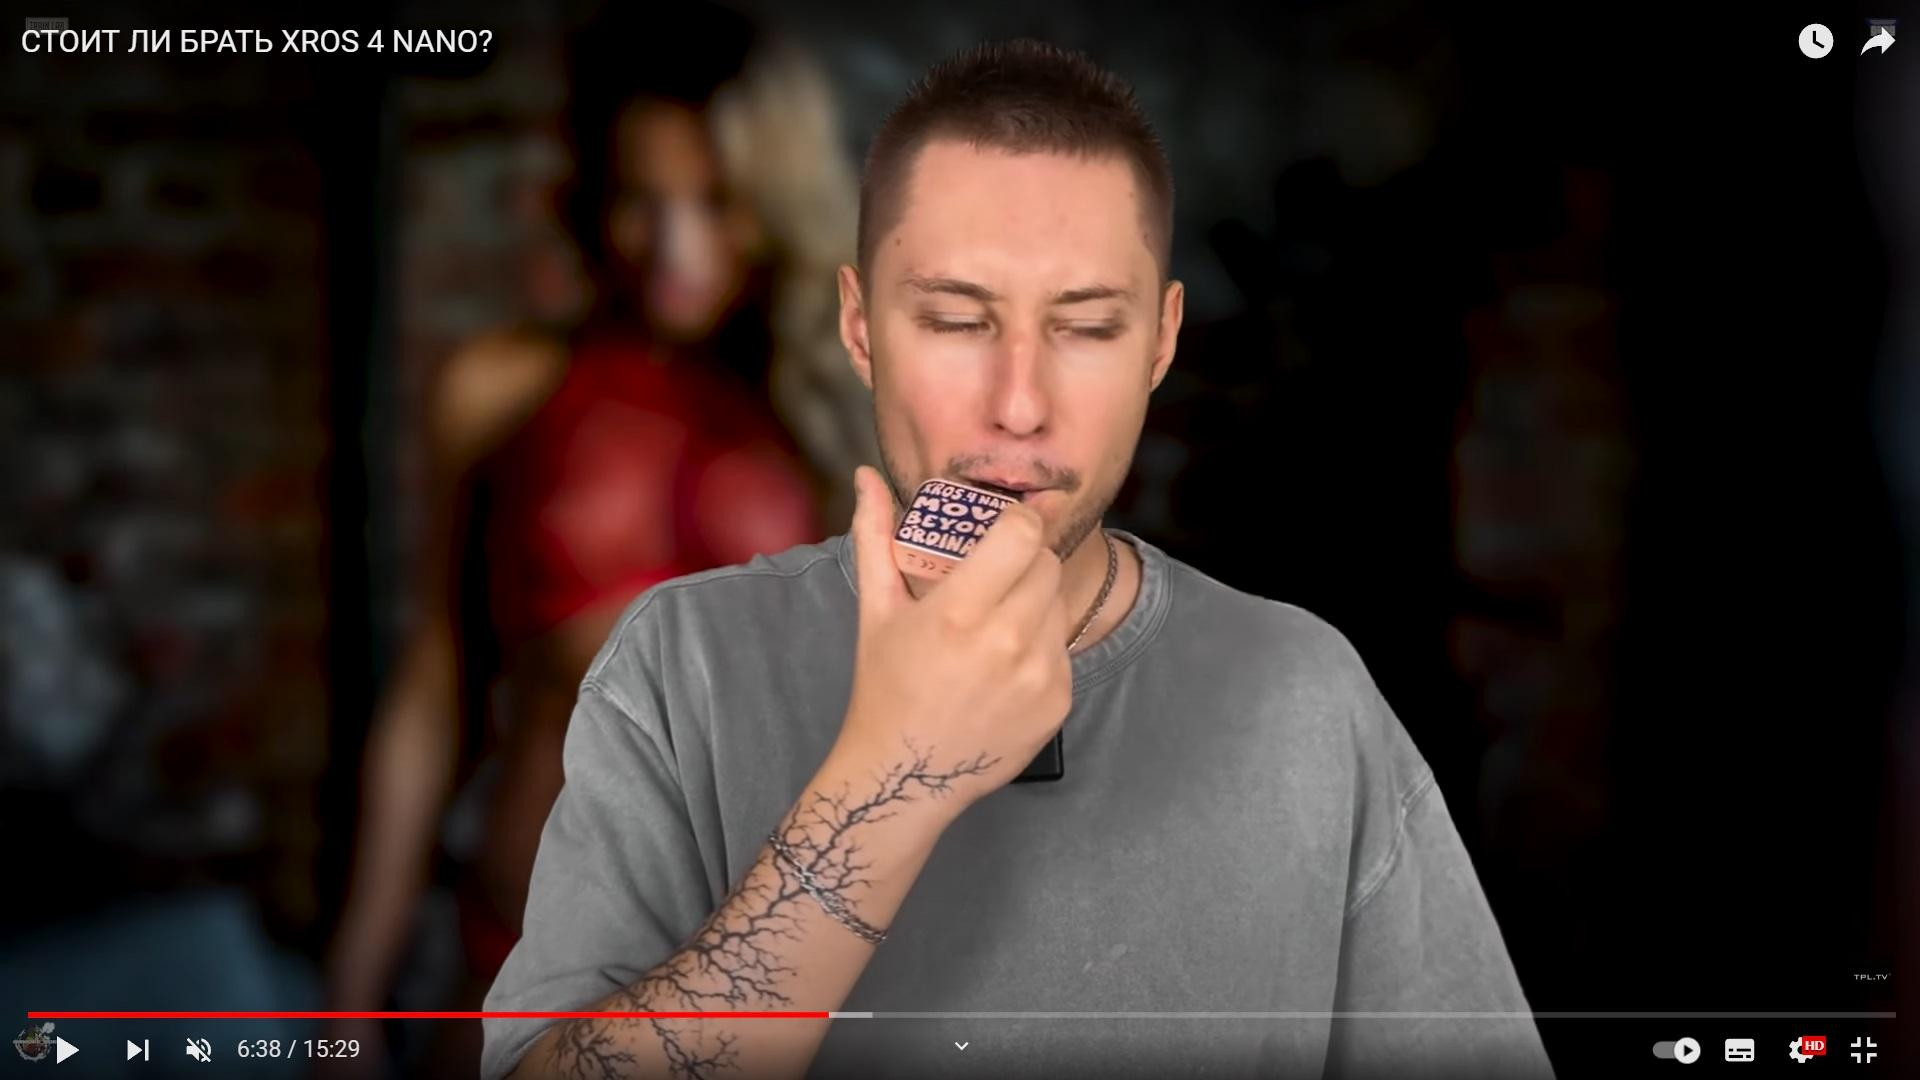Vape: (893, 477, 1025, 582)
